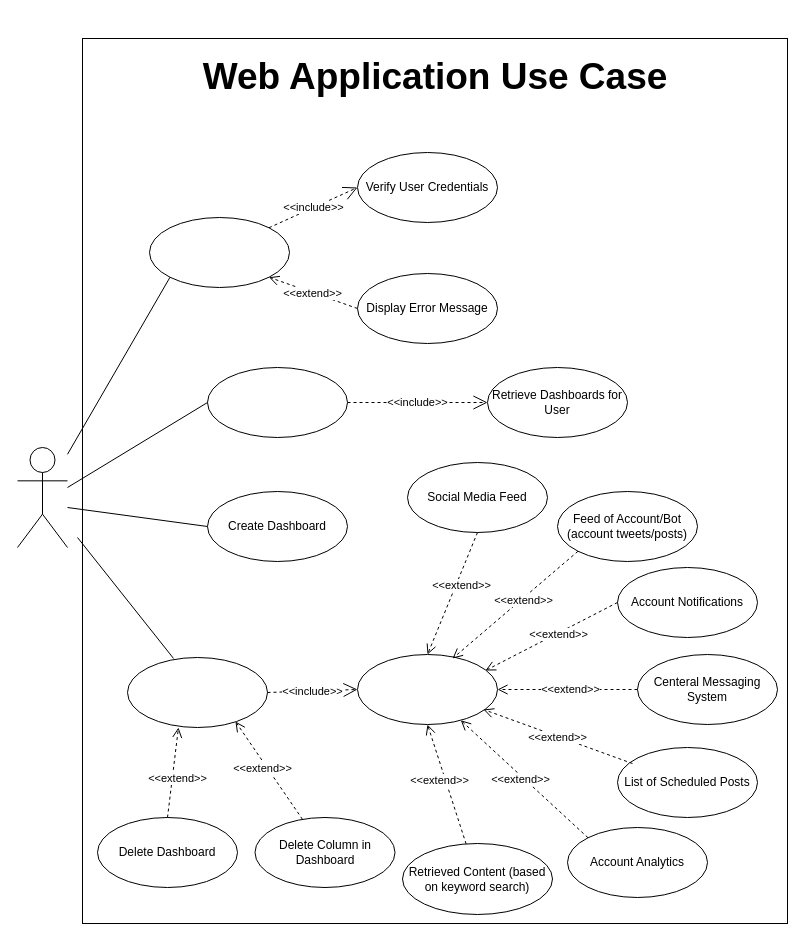
This 805x941 diagram has some shape labels left out. The shapes that lost their labels are listed below. From the top down, each one's box as (x1, y1, x2, y2) in pixels, then its label:
(148, 216, 290, 288): Login to Web Application
(206, 366, 348, 438): Select Dashboard
(16, 446, 68, 548): User
(126, 656, 268, 728): Customise Dashboard
(356, 654, 498, 724): Create or Edit Column in Dashboard
